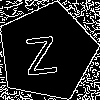Z: (22, 27, 59, 76)
